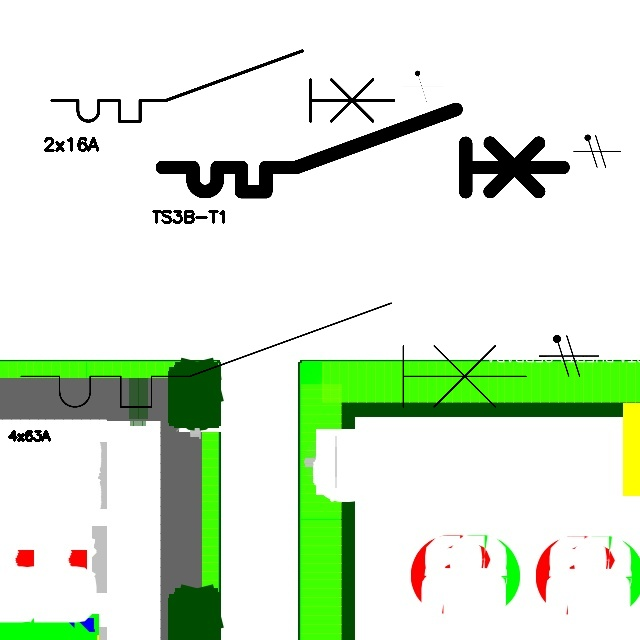interruptor_termomagnetico: (8, 290, 539, 420), (152, 99, 573, 202), (43, 42, 402, 130)
